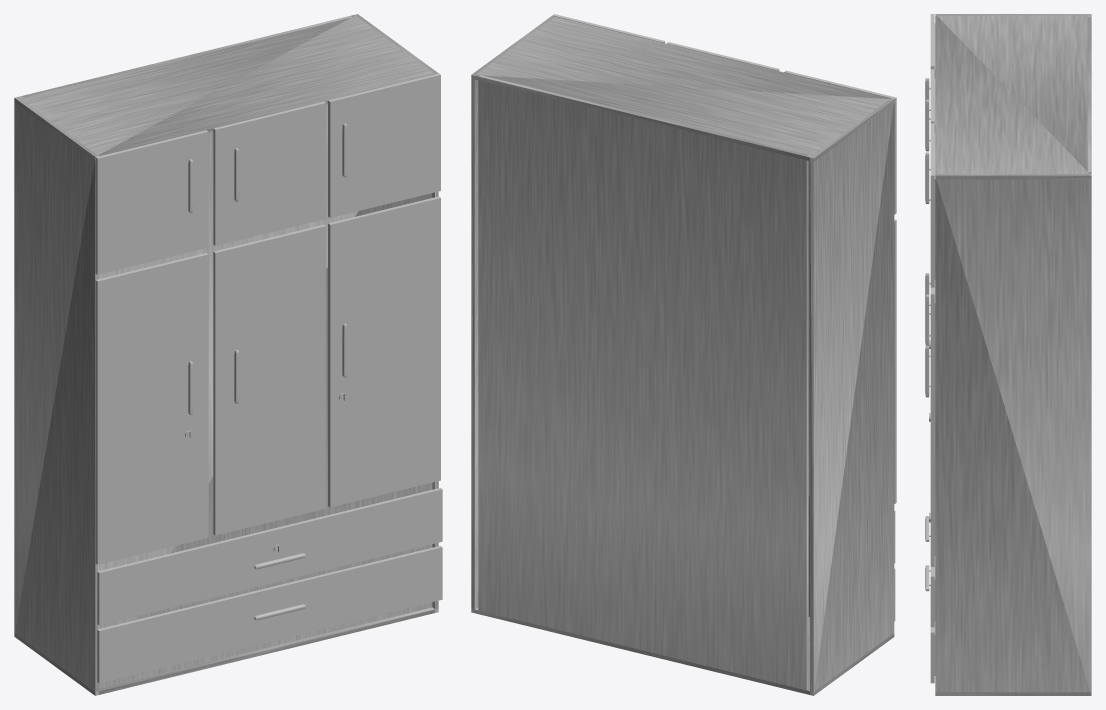
Rendered from wardrobe.obj.
3 renders of one model, left to right at view 1: azimuth 30°, elevation 25°; view 2: azimuth 150°, elevation 25°; view 3: azimuth 270°, elevation 25°, orthographic. The views are drawn at different scales.
Visible parts, largest first — view 1: Mesh12, Mesh01, Mesh29; view 2: Mesh01, Mesh12; view 3: Mesh01, Mesh12, Mesh29, Mesh38, Mesh39.
Part boxes in pixels (left/top/right/bottom): Mesh12: left=95, top=73, right=442, bottom=683; Mesh01: left=14, top=14, right=438, bottom=695; Mesh29: left=185, top=123, right=347, bottom=620; Mesh01: left=471, top=16, right=894, bottom=695; Mesh12: left=552, top=14, right=896, bottom=621; Mesh01: left=935, top=14, right=1091, bottom=695; Mesh12: left=930, top=14, right=934, bottom=683; Mesh29: left=925, top=78, right=930, bottom=591; Mesh38: left=934, top=280, right=935, bottom=555; Mesh39: left=934, top=133, right=935, bottom=279.
Size of the model in its own units: 57.86 by 86.41 by 25.01.
